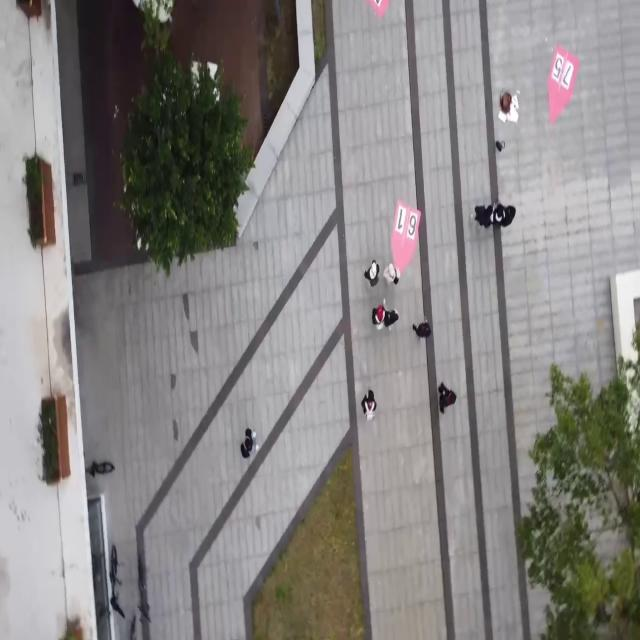-sign-: (542, 39, 582, 134), (386, 190, 424, 285)
